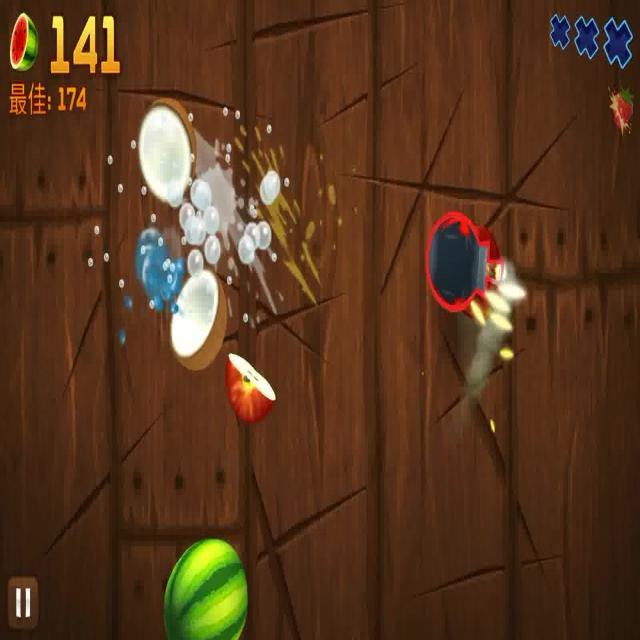bomb: (419, 207, 528, 365)
fruit: (162, 534, 247, 640), (168, 254, 228, 382), (138, 96, 195, 208), (221, 352, 282, 419)
